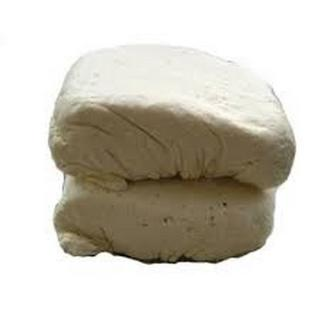Tahu: (40, 41, 302, 291)
